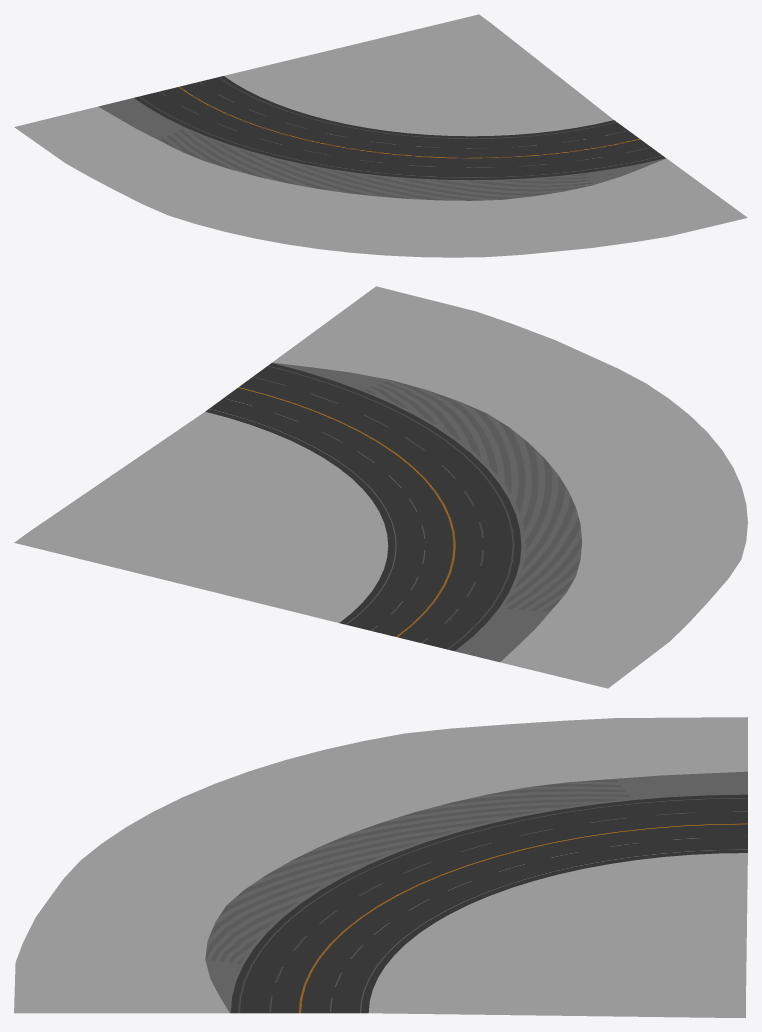
The model's file is Big_turn2_round1.fbx.
The picture shows the model from 3 angles, top to bottom: view 1: azimuth 30°, elevation 25°; view 2: azimuth 150°, elevation 25°; view 3: azimuth 270°, elevation 25°; orthographic projection. The views are drawn at different scales.
Visible parts, largest first — view 1: polySurface34, polySurface36, polySurface35, polySurface371; view 2: polySurface34, polySurface36, polySurface35, polySurface371; view 3: polySurface34, polySurface36, polySurface35, polySurface371.
Boxes of the visible parts, x1,y1,x2,y2 form: polySurface34: (14,106,747,257); polySurface36: (224,14,613,136); polySurface35: (134,76,665,180); polySurface371: (98,98,666,200); polySurface34: (272,286,747,688); polySurface36: (14,411,388,622); polySurface35: (205,363,521,651); polySurface371: (272,362,581,662); polySurface34: (14,717,747,1013); polySurface36: (368,853,747,1017); polySurface35: (230,794,747,1013); polySurface371: (205,771,747,1013).
Size of the model in its own units: 10142 by 0.000122 by 10463.
